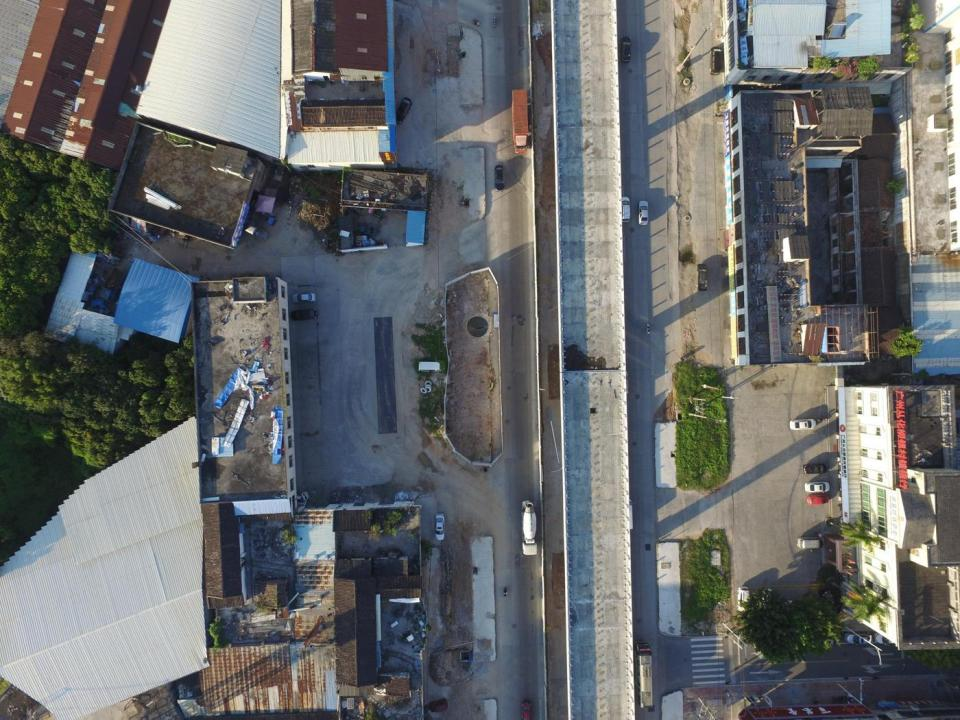bus: (634, 640, 654, 709)
car: (394, 96, 412, 123), (735, 584, 751, 613), (618, 34, 632, 62), (789, 417, 816, 431), (874, 631, 901, 645), (288, 308, 316, 321), (804, 481, 830, 494), (494, 164, 505, 194), (637, 200, 649, 227), (434, 511, 445, 540), (802, 462, 826, 475), (428, 698, 448, 713), (806, 492, 829, 505), (846, 634, 873, 645), (761, 588, 772, 614), (292, 292, 316, 303), (520, 699, 532, 720)
truck: (511, 88, 529, 154), (520, 500, 538, 556), (241, 222, 269, 241), (695, 263, 709, 292), (254, 211, 277, 226)
van: (709, 46, 723, 76), (796, 536, 825, 549), (418, 359, 441, 374), (620, 196, 631, 224)
